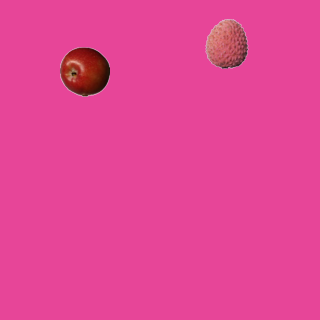Apple Braeburn: (59, 46, 109, 96)
Lychee: (201, 18, 251, 68)
